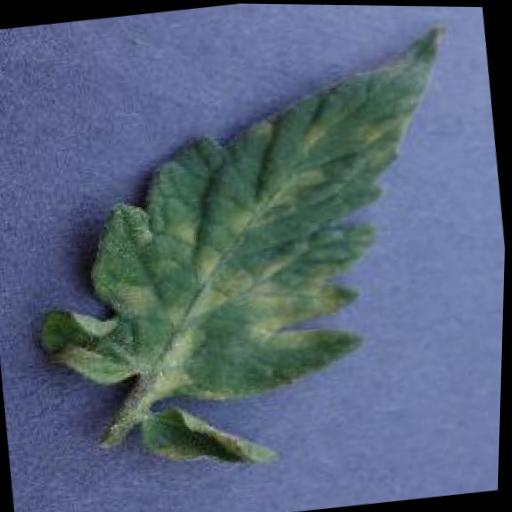Leaf Mold: (6, 20, 484, 426)
